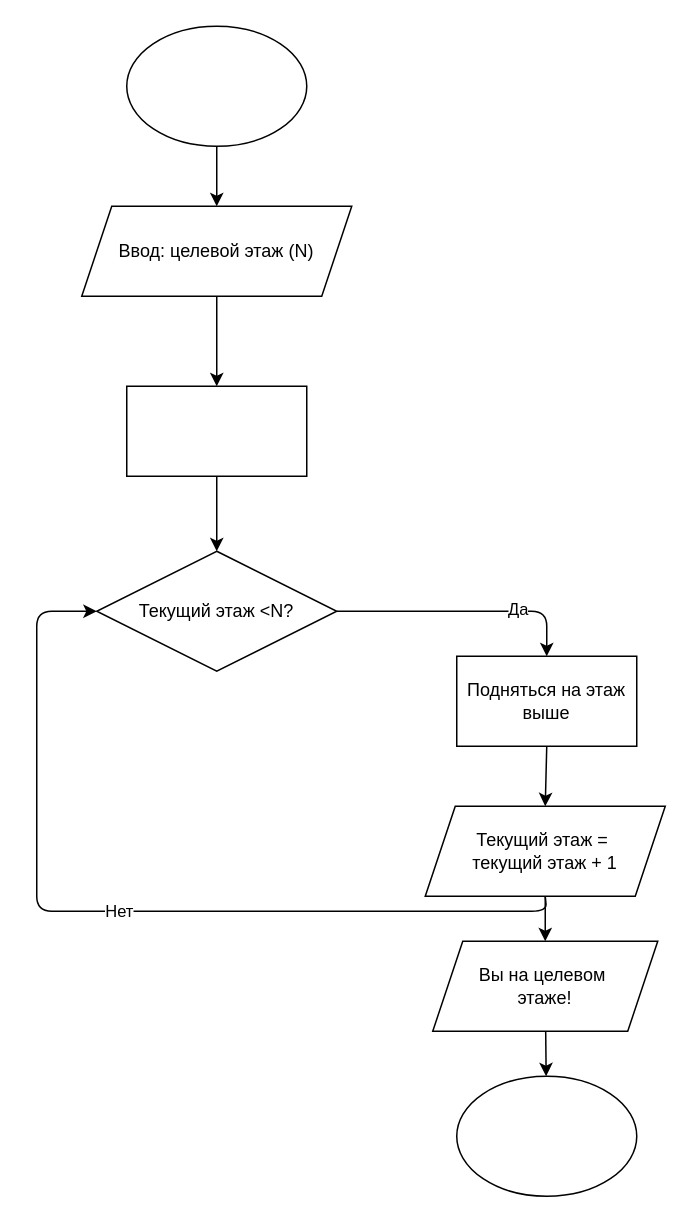
The diagram is 692 pixels wide and 1223 high, and some of its shapes have lost their labels. The box of each missing label's shape, as (x1, y1, x2, y2) in pixels:
Конец: (455, 1075, 637, 1196)
Начало: (125, 25, 307, 146)
Текущий этаж = 1: (125, 385, 307, 476)
